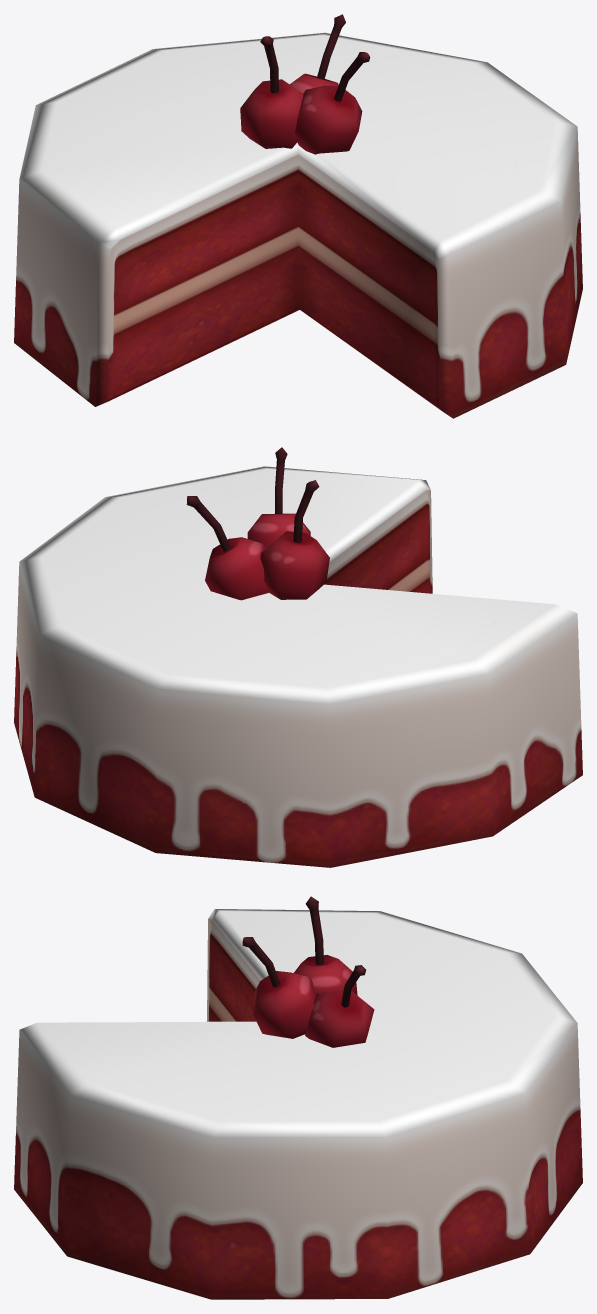
File: Velvet_Cut.fbx
3 renders of one model, top to bottom at view 1: azimuth 30°, elevation 25°; view 2: azimuth 150°, elevation 25°; view 3: azimuth 270°, elevation 25°, orthographic.
Parts seen in each view (by area): view 1: Velvet_Cut; view 2: Velvet_Cut; view 3: Velvet_Cut.
Boxes of the visible parts, x1,y1,x2,y2 form: Velvet_Cut: (14,14,582,418); Velvet_Cut: (14,447,582,867); Velvet_Cut: (14,896,582,1299).
Size of the model in its own units: 79.49 by 43.85 by 81.97.
